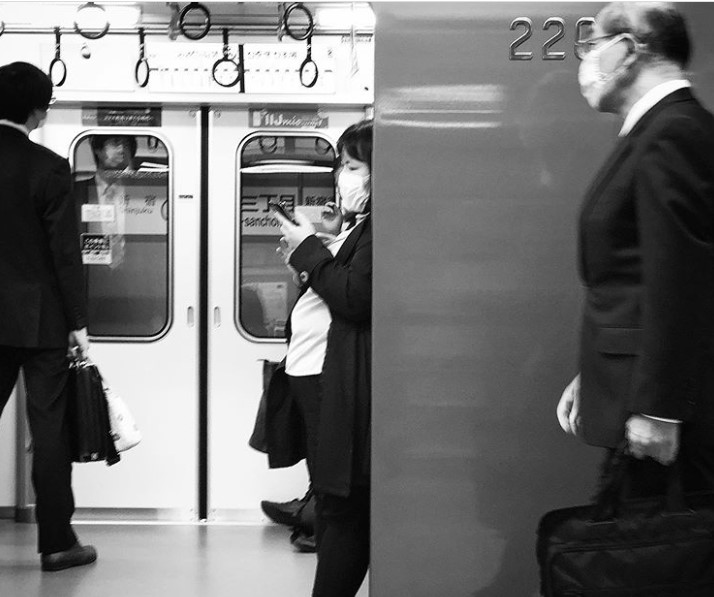face_with_mask: (571, 5, 676, 110), (331, 115, 371, 219)
